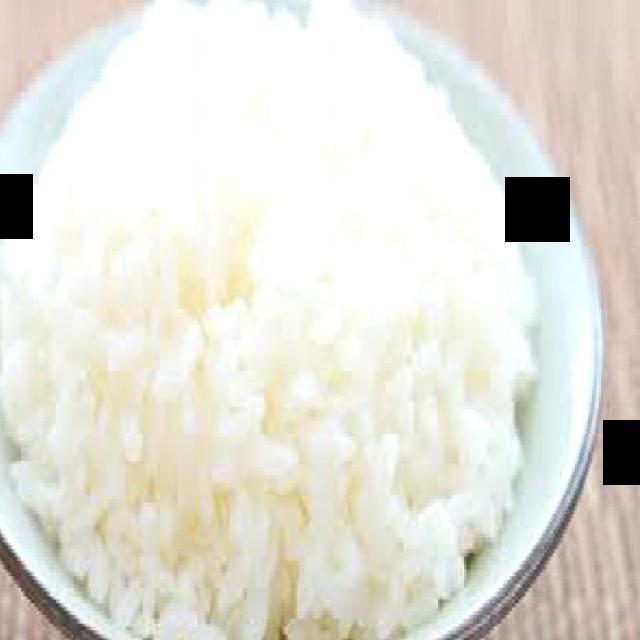rice: (0, 2, 534, 640)
